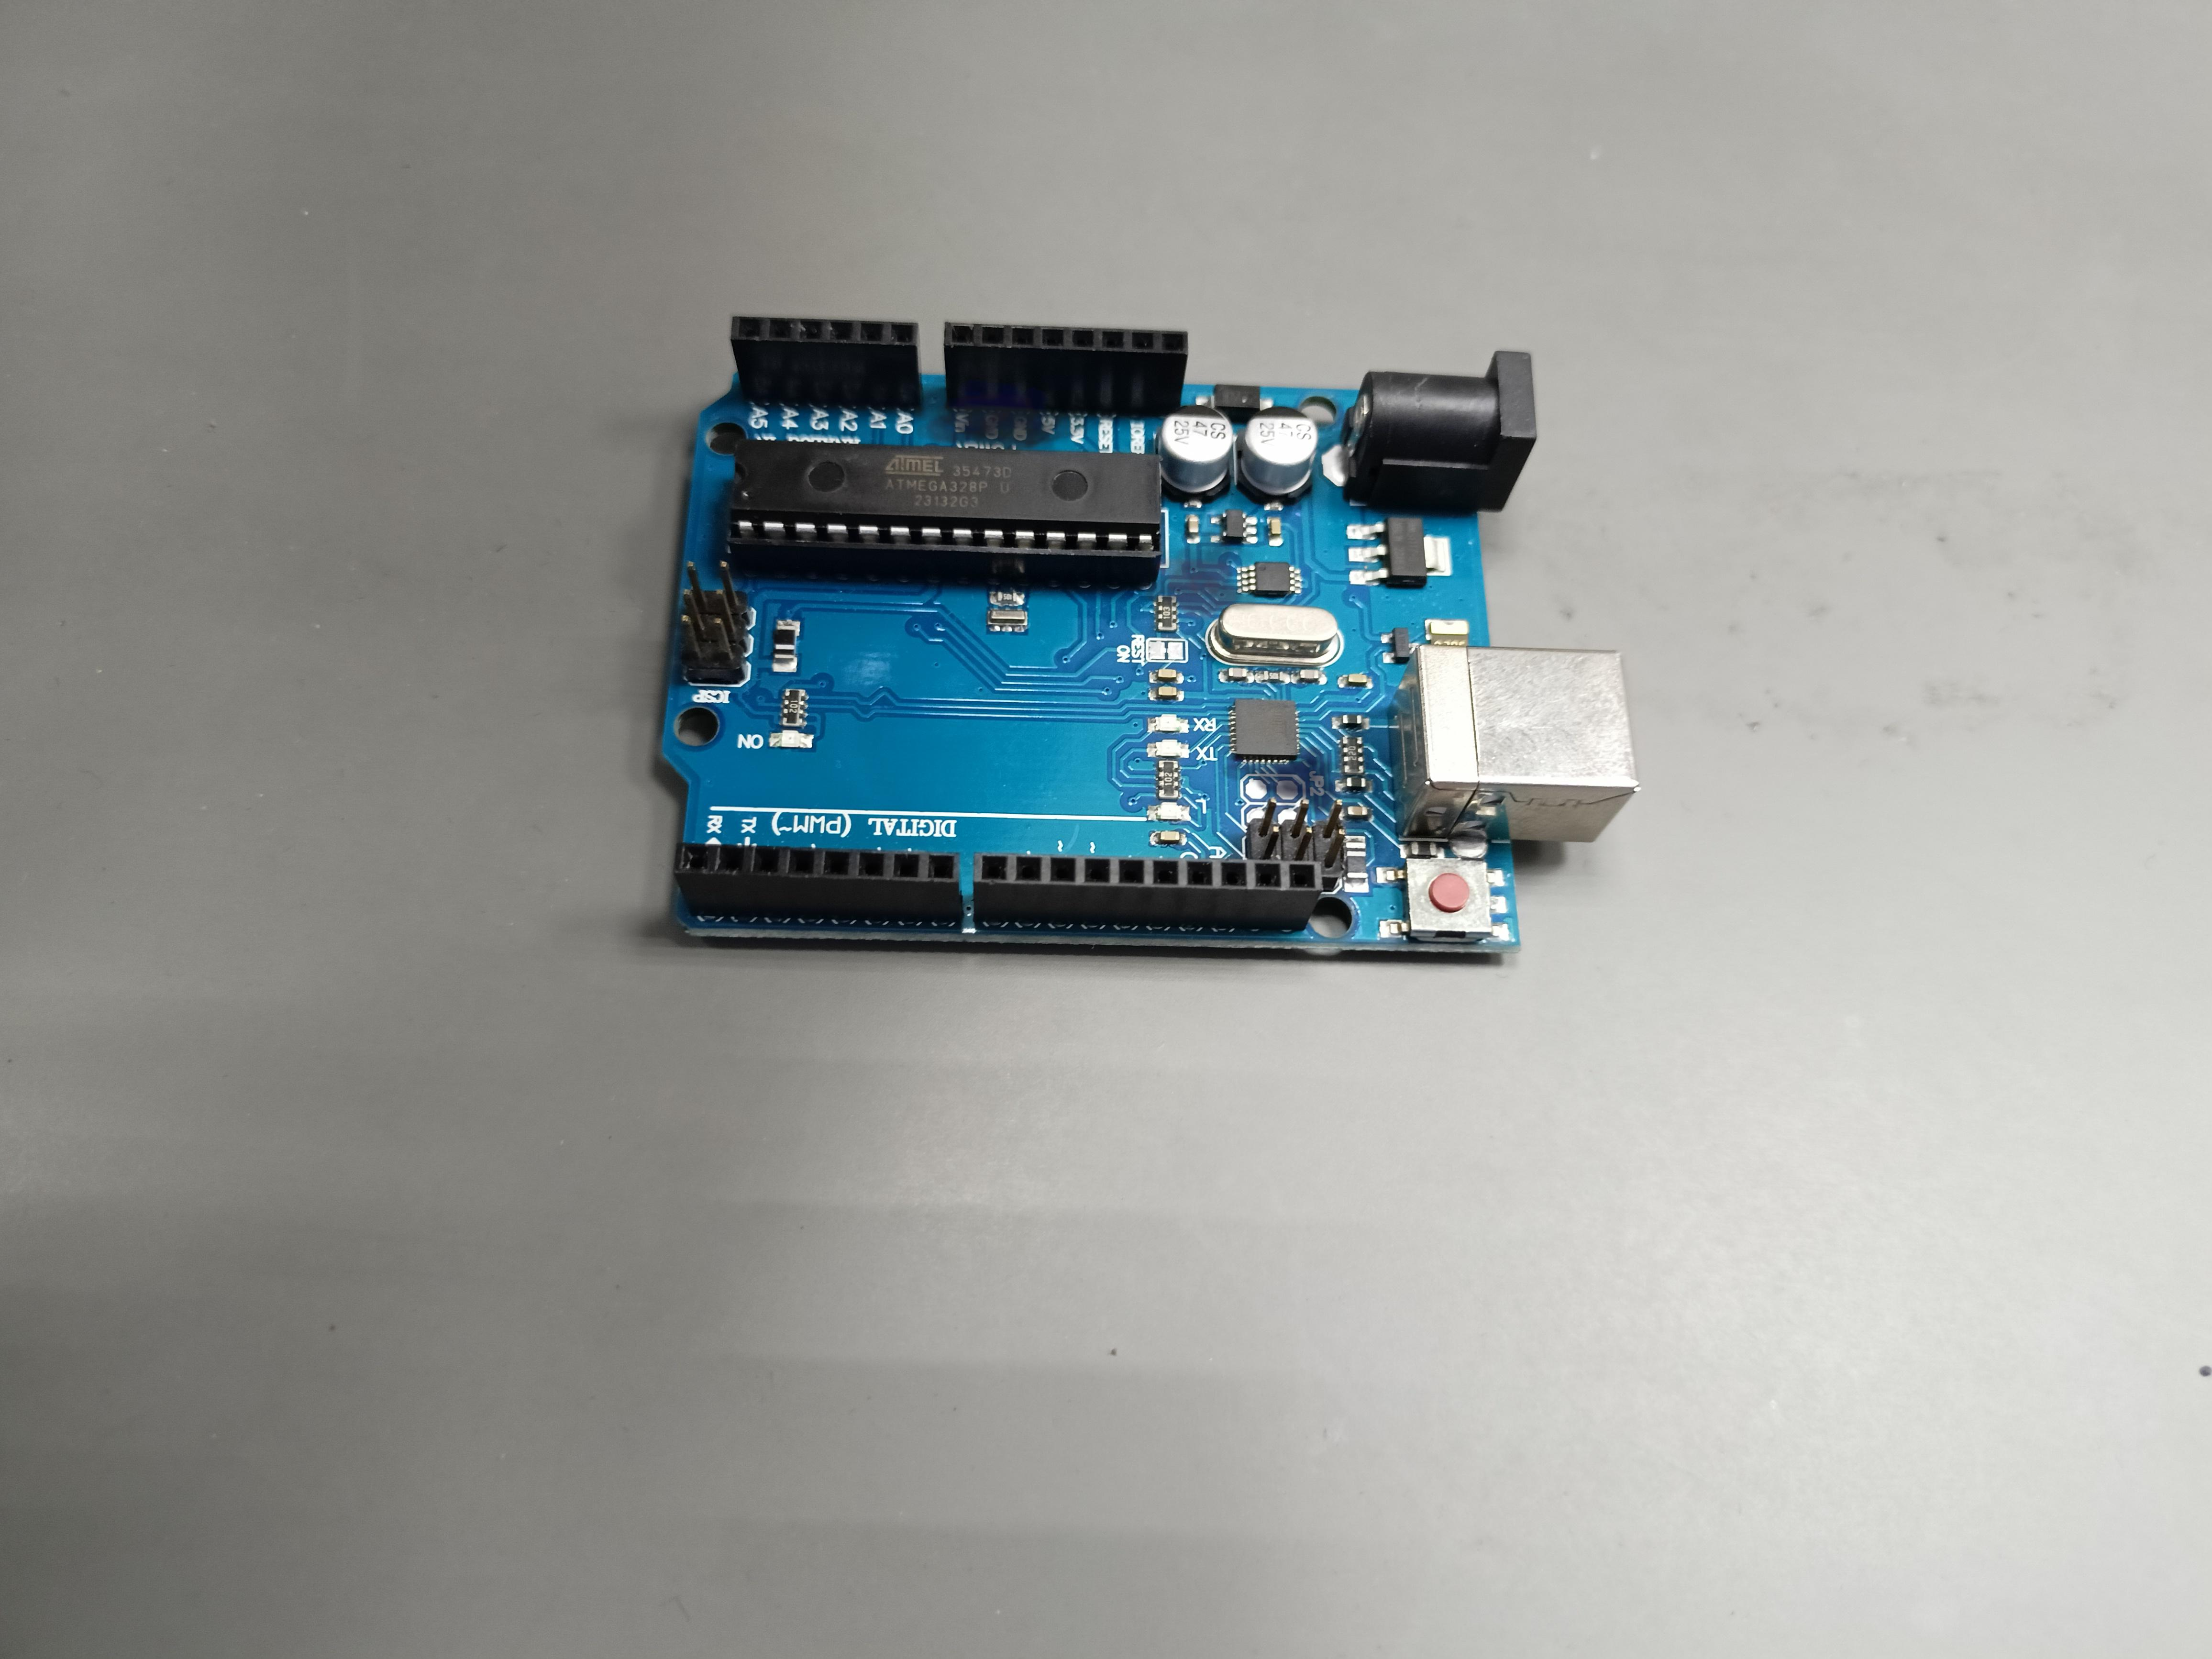ATmega328 chip: (726, 439, 1163, 587)
Arduino board: (662, 315, 1639, 953)
Overheat: (927, 378, 1064, 448), (1223, 746, 1338, 814), (1155, 547, 1240, 619)
USB: (1386, 643, 1641, 842)
capacitor: (1235, 406, 1317, 505), (1155, 404, 1233, 504)
pins: (974, 852, 1324, 931), (944, 321, 1188, 416), (672, 843, 963, 922), (732, 315, 923, 408)
resistor: (782, 690, 806, 727), (1158, 760, 1179, 798), (1343, 737, 1364, 774), (1158, 596, 1177, 631)
